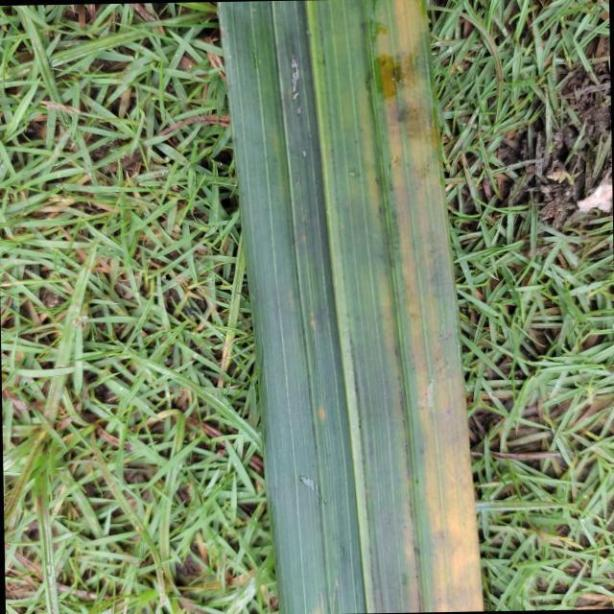Megnesium: (218, 0, 486, 614)
